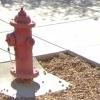a fire hydrant: (11, 12, 35, 82)
